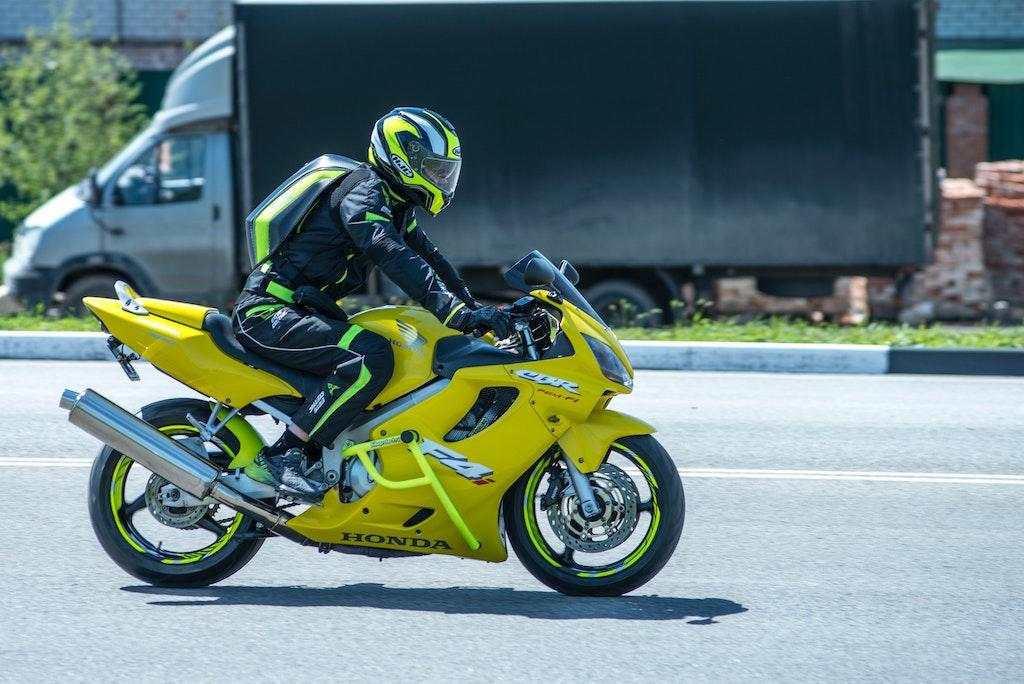helmet: (367, 105, 464, 218)
